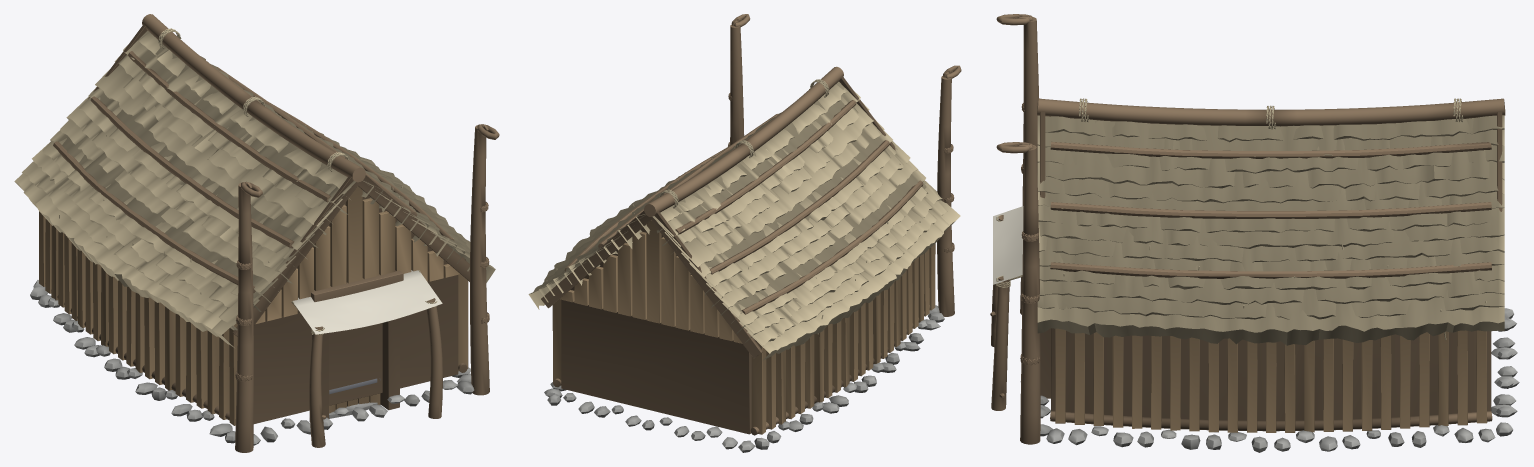
The model's file is berk_house_b.glb.
The picture shows the model from 3 angles, left to right: view 1: azimuth 30°, elevation 25°; view 2: azimuth 150°, elevation 25°; view 3: azimuth 270°, elevation 25°; orthographic projection. The views are drawn at different scales.
Visible parts, largest first — view 1: berk_house_b; view 2: berk_house_b; view 3: berk_house_b.
Boxes of the visible parts, x1,y1,x2,y2 form: berk_house_b: (14, 14, 499, 452); berk_house_b: (528, 14, 961, 452); berk_house_b: (990, 14, 1519, 452).
Size of the model in its own units: 5.79 by 4.78 by 7.69.
